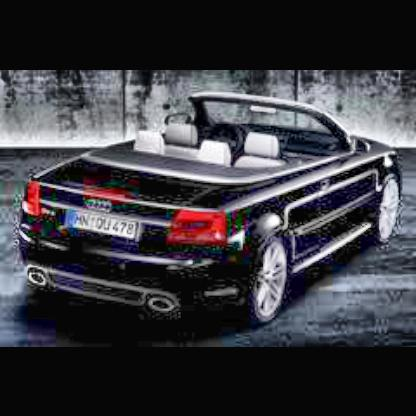Audi RS 4 Convertible 2008: (18, 92, 406, 322)
